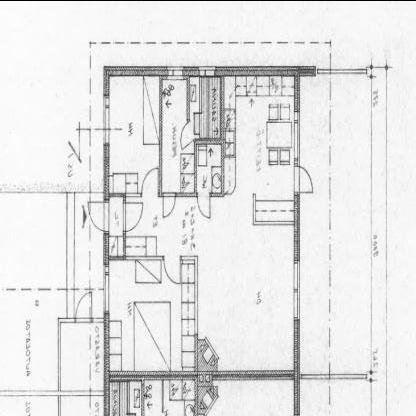door: (292, 159, 316, 197), (124, 197, 144, 237), (87, 197, 109, 233), (162, 250, 182, 288), (139, 161, 159, 199), (74, 288, 94, 326), (194, 188, 212, 222), (179, 113, 193, 153), (162, 192, 178, 222)
window: (290, 254, 302, 322), (101, 87, 113, 151), (101, 258, 113, 318), (291, 106, 303, 163), (165, 61, 187, 82), (197, 60, 217, 80)
